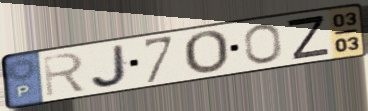7: (143, 34, 177, 86)
J: (88, 42, 132, 90)
O: (181, 29, 231, 76), (241, 22, 285, 65)
R: (40, 50, 88, 99)
Z: (283, 13, 332, 61)
